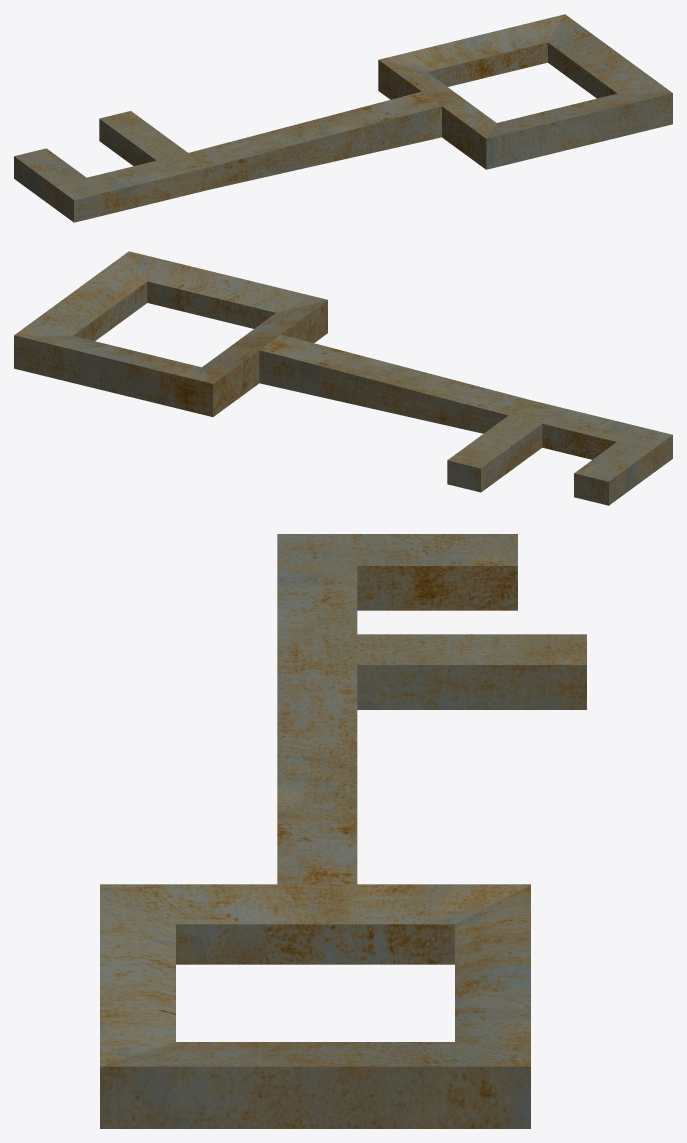
The model's file is key.glb.
3 views of the same model, one above another, from view 1: azimuth 30°, elevation 25°; view 2: azimuth 150°, elevation 25°; view 3: azimuth 270°, elevation 25° (orthographic). The views are drawn at different scales.
Visible parts, largest first — view 1: Cube.001; view 2: Cube.001; view 3: Cube.001.
Boxes of the visible parts, x1,y1,x2,y2 form: Cube.001: (14, 14, 672, 222); Cube.001: (14, 251, 672, 505); Cube.001: (100, 534, 586, 1128).
Bounding box in the file's own units: 0.1782 × 0.00957 × 0.0678.
1 material, 1 textured.
